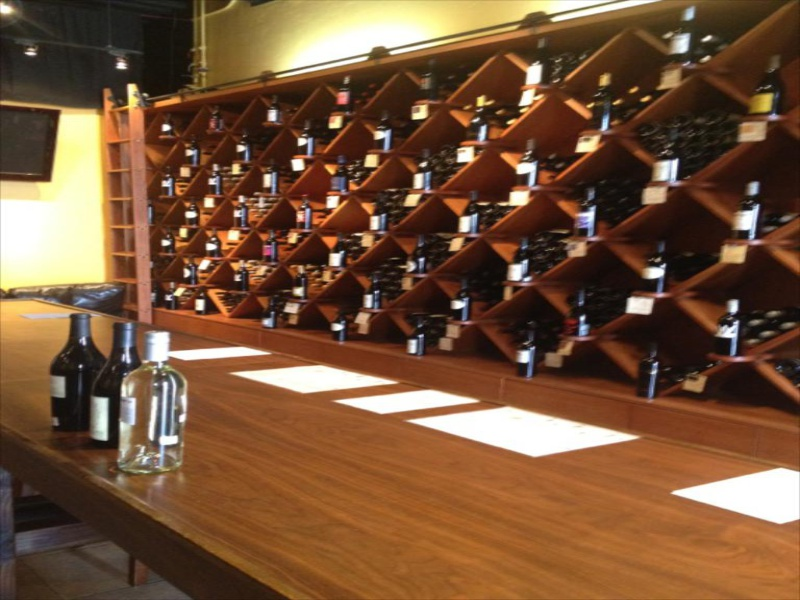wine: (130, 4, 800, 430), (34, 307, 199, 490)
